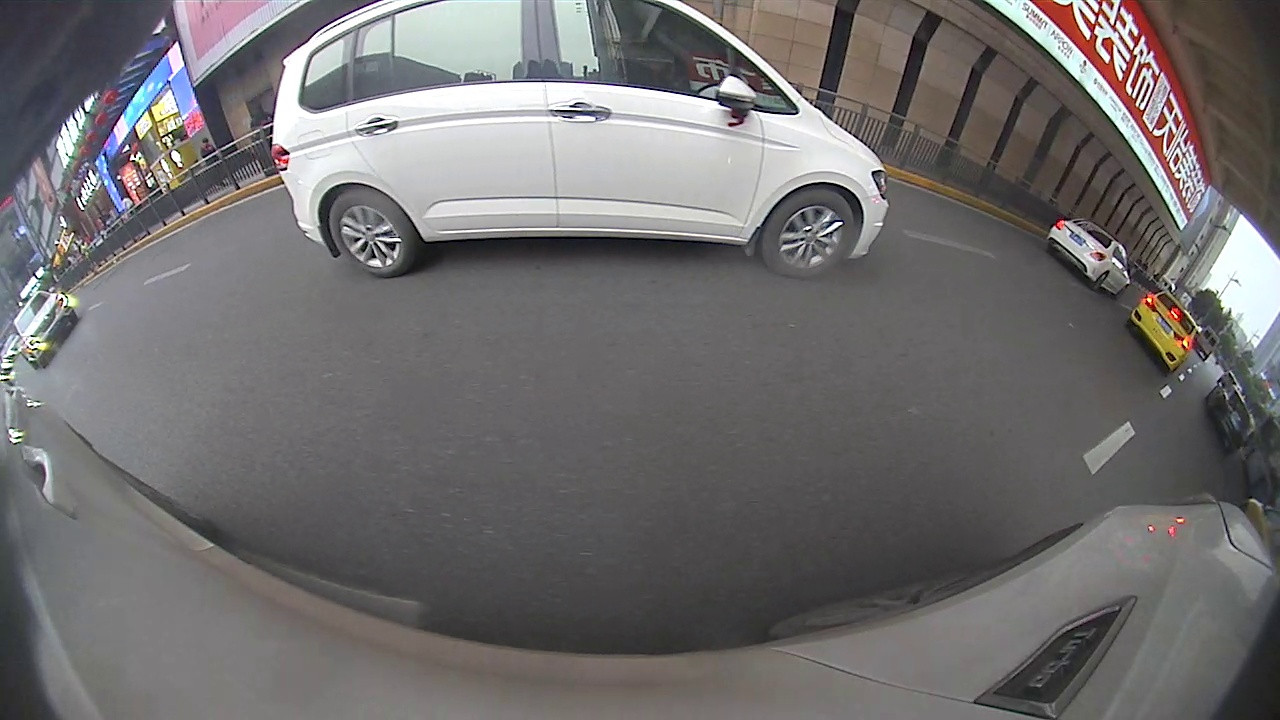car: (268, 1, 891, 283), (1047, 216, 1136, 298), (1124, 290, 1201, 373), (9, 289, 78, 370), (1205, 379, 1251, 454)
front: (762, 187, 858, 281)
rear: (322, 183, 408, 280), (1092, 270, 1111, 292)
